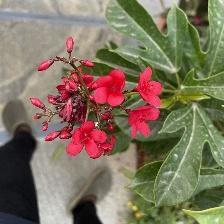jatropha: (92, 68, 131, 109)
